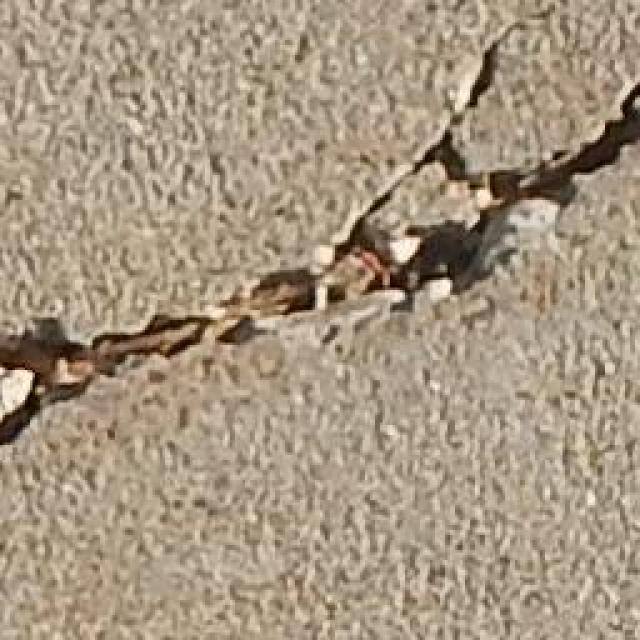concrete-crack: (0, 10, 639, 459)
